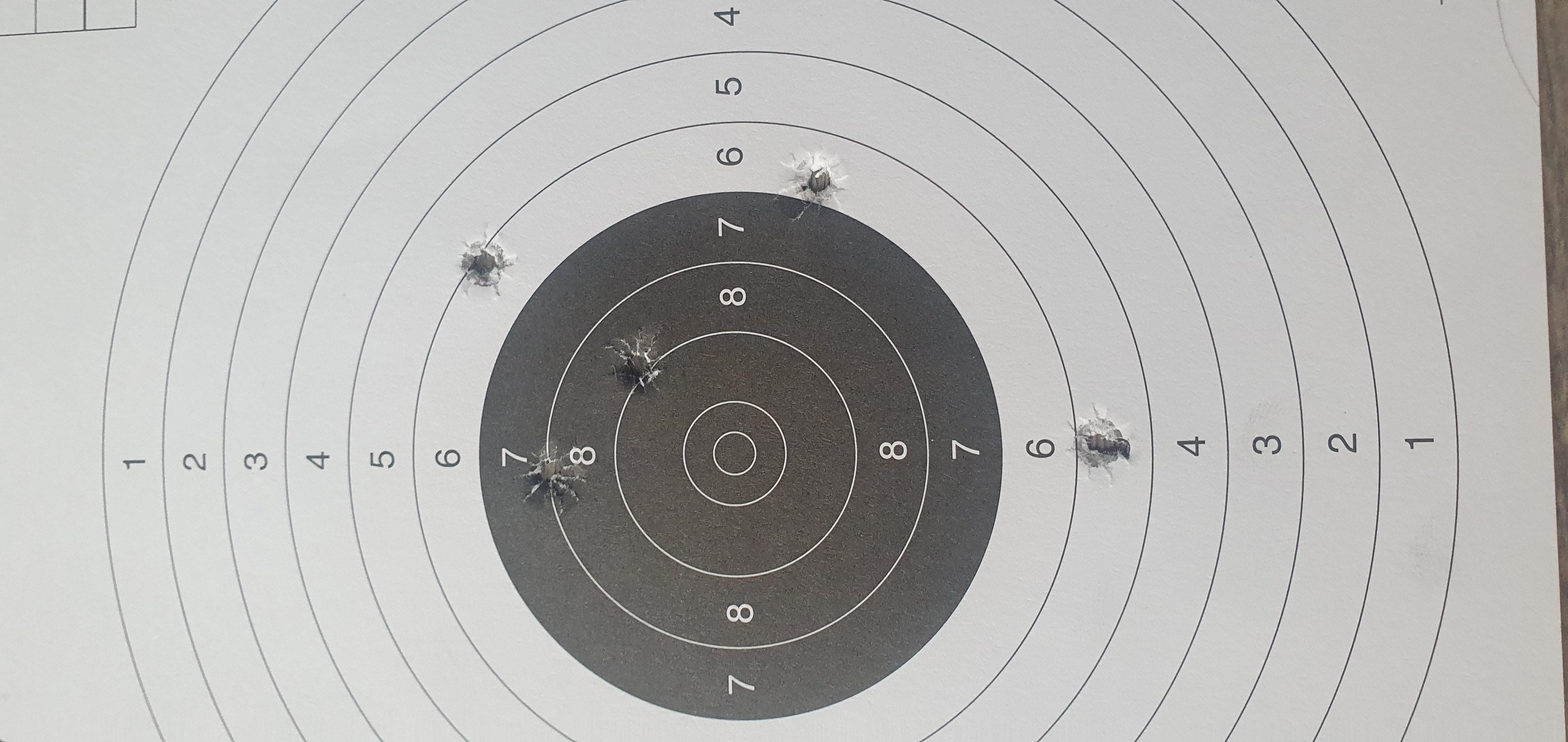hole: (1104, 366, 1257, 402), (548, 503, 712, 536), (485, 245, 638, 276), (723, 286, 877, 316), (942, 215, 1088, 245)
